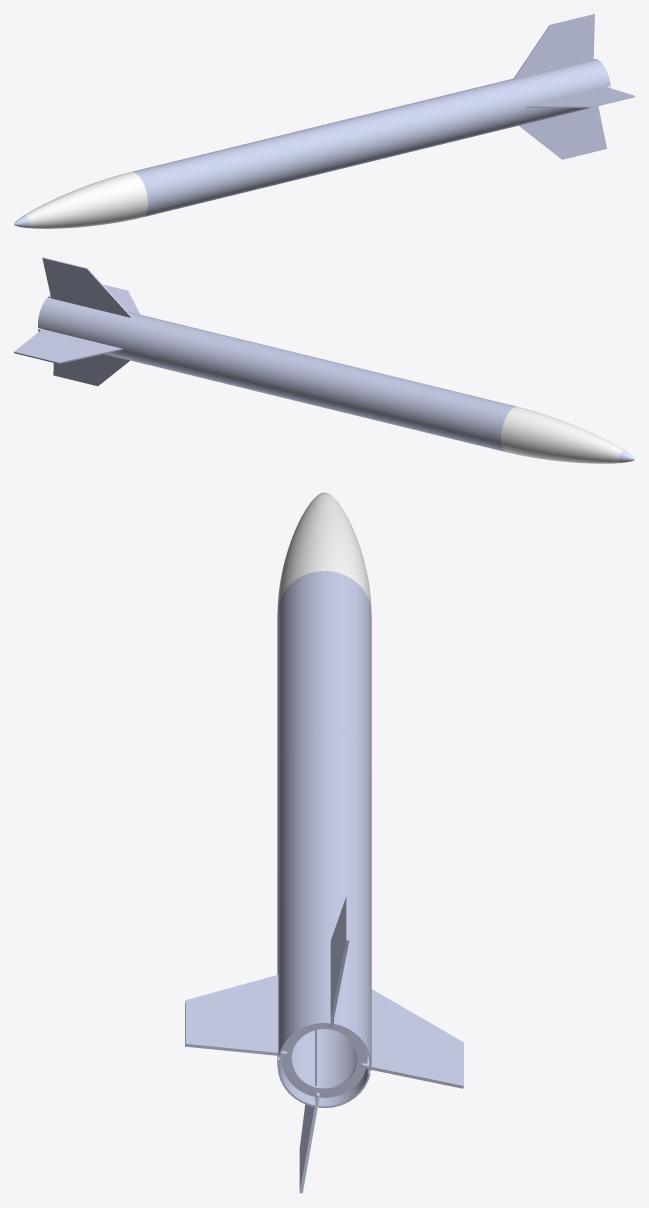
The model's file is rocket.glb.
3 views of the same model, one above another, from view 1: azimuth 30°, elevation 25°; view 2: azimuth 150°, elevation 25°; view 3: azimuth 270°, elevation 25° (orthographic). The views are drawn at different scales.
Parts seen in each view (by area): view 1: fincan-1, bodytube-2, nosecone_tipless-2, fin2-1, fin2-2, fin3-1; view 2: fincan-1, bodytube-2, nosecone_tipless-2, fin2-1, fin1-1, fin2-2, fin3-1; view 3: fincan-1, bodytube-2, fin3-1, fin1-1, nosecone_tipless-2, centering ring 2_140-1, fin2-1, fin2-2.
Part boxes in pixels (x1=…): fincan-1: x1=295, y1=59, x2=610, y2=177; bodytube-2: x1=131, y1=132, x2=308, y2=217; nosecone_tipless-2: x1=25, y1=172, x2=147, y2=228; fin2-1: x1=513, y1=14, x2=594, y2=79; fin2-2: x1=519, y1=106, x2=606, y2=159; fin3-1: x1=526, y1=87, x2=634, y2=107; fincan-1: x1=38, y1=295, x2=353, y2=412; bodytube-2: x1=340, y1=367, x2=516, y2=451; nosecone_tipless-2: x1=501, y1=406, x2=623, y2=463; fin2-1: x1=42, y1=257, x2=131, y2=317; fin1-1: x1=14, y1=329, x2=122, y2=363; fin2-2: x1=53, y1=354, x2=129, y2=386; fin3-1: x1=103, y1=284, x2=140, y2=314; fincan-1: x1=277, y1=730, x2=371, y2=1107; bodytube-2: x1=277, y1=571, x2=371, y2=769; fin3-1: x1=185, y1=975, x2=287, y2=1056; fin1-1: x1=361, y1=989, x2=463, y2=1088; nosecone_tipless-2: x1=277, y1=494, x2=371, y2=608; centering ring 2_140-1: x1=281, y1=1022, x2=367, y2=1097; fin2-1: x1=329, y1=896, x2=349, y2=1027; fin2-2: x1=299, y1=1029, x2=319, y2=1193.
Size of the model in its own units: 2.1 by 0.4328 by 0.4328.
